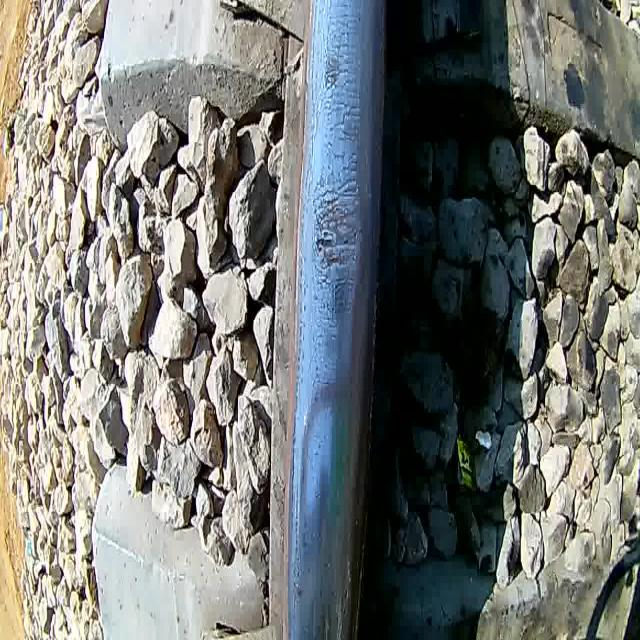Squats: (302, 148, 371, 298), (312, 0, 371, 145)
